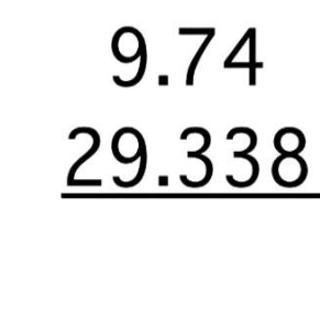.: (155, 69, 172, 89), (156, 171, 172, 191)
2: (61, 120, 106, 189)
3: (173, 120, 219, 190), (218, 120, 264, 190)
4: (221, 21, 267, 90)
7: (174, 20, 220, 89)
8: (264, 121, 310, 190)
9: (106, 122, 152, 191), (104, 19, 149, 89)
